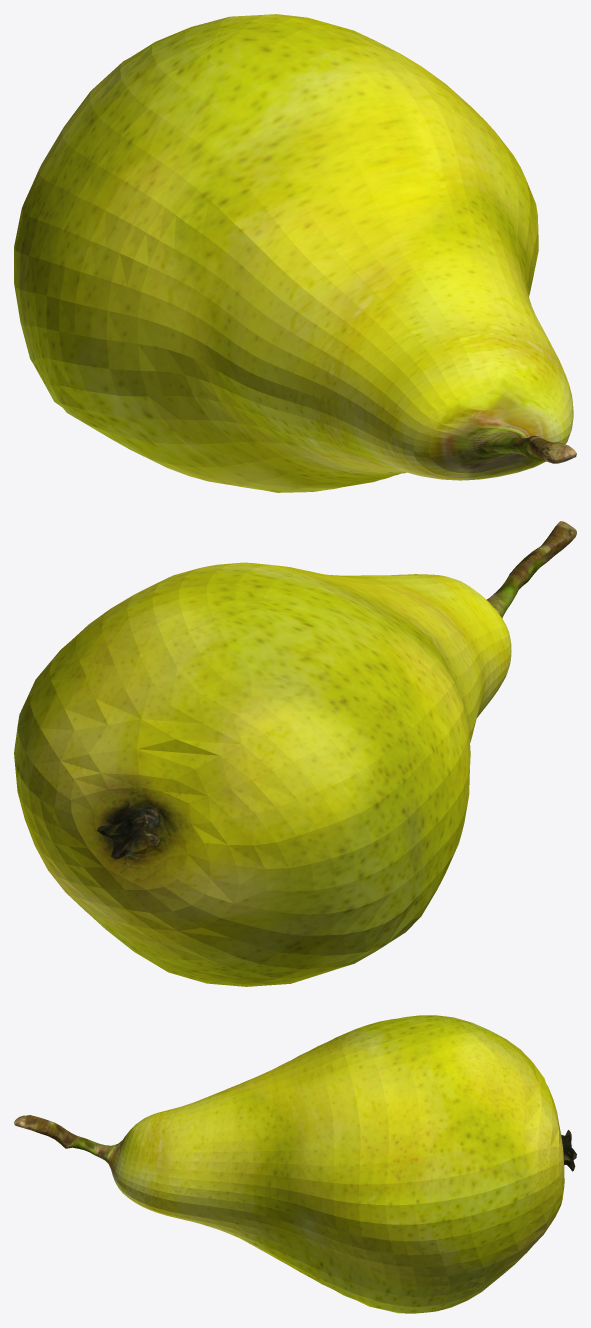
The model's file is pear.obj.
3 renders of one model, top to bottom at view 1: azimuth 30°, elevation 25°; view 2: azimuth 150°, elevation 25°; view 3: azimuth 270°, elevation 25°, orthographic. The views are drawn at different scales.
Parts seen in each view (by area): view 1: fruit; view 2: fruit; view 3: fruit.
Boxes of the visible parts, box(x1,y1,x2,y2) form: fruit: box(14, 14, 576, 492); fruit: box(14, 521, 576, 986); fruit: box(14, 1015, 576, 1313).
Bounding box in the file's own units: 1.1 × 0.9959 × 1.9.
